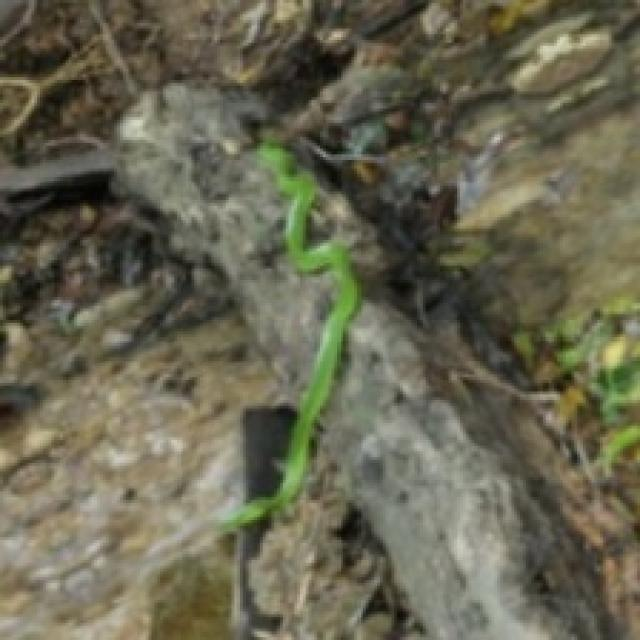red-tailed green ratsnake: (223, 143, 357, 529)
